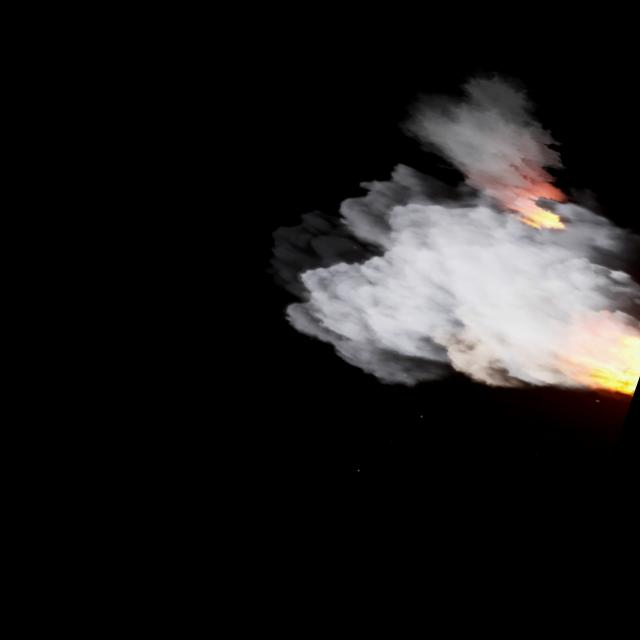fire: (555, 298, 640, 403), (488, 156, 588, 242)
smoke: (241, 23, 640, 464)
